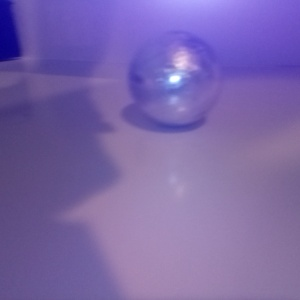alive_ball: (246, 80, 300, 251), (1, 52, 19, 126)
dead_ball: (168, 14, 234, 83)
